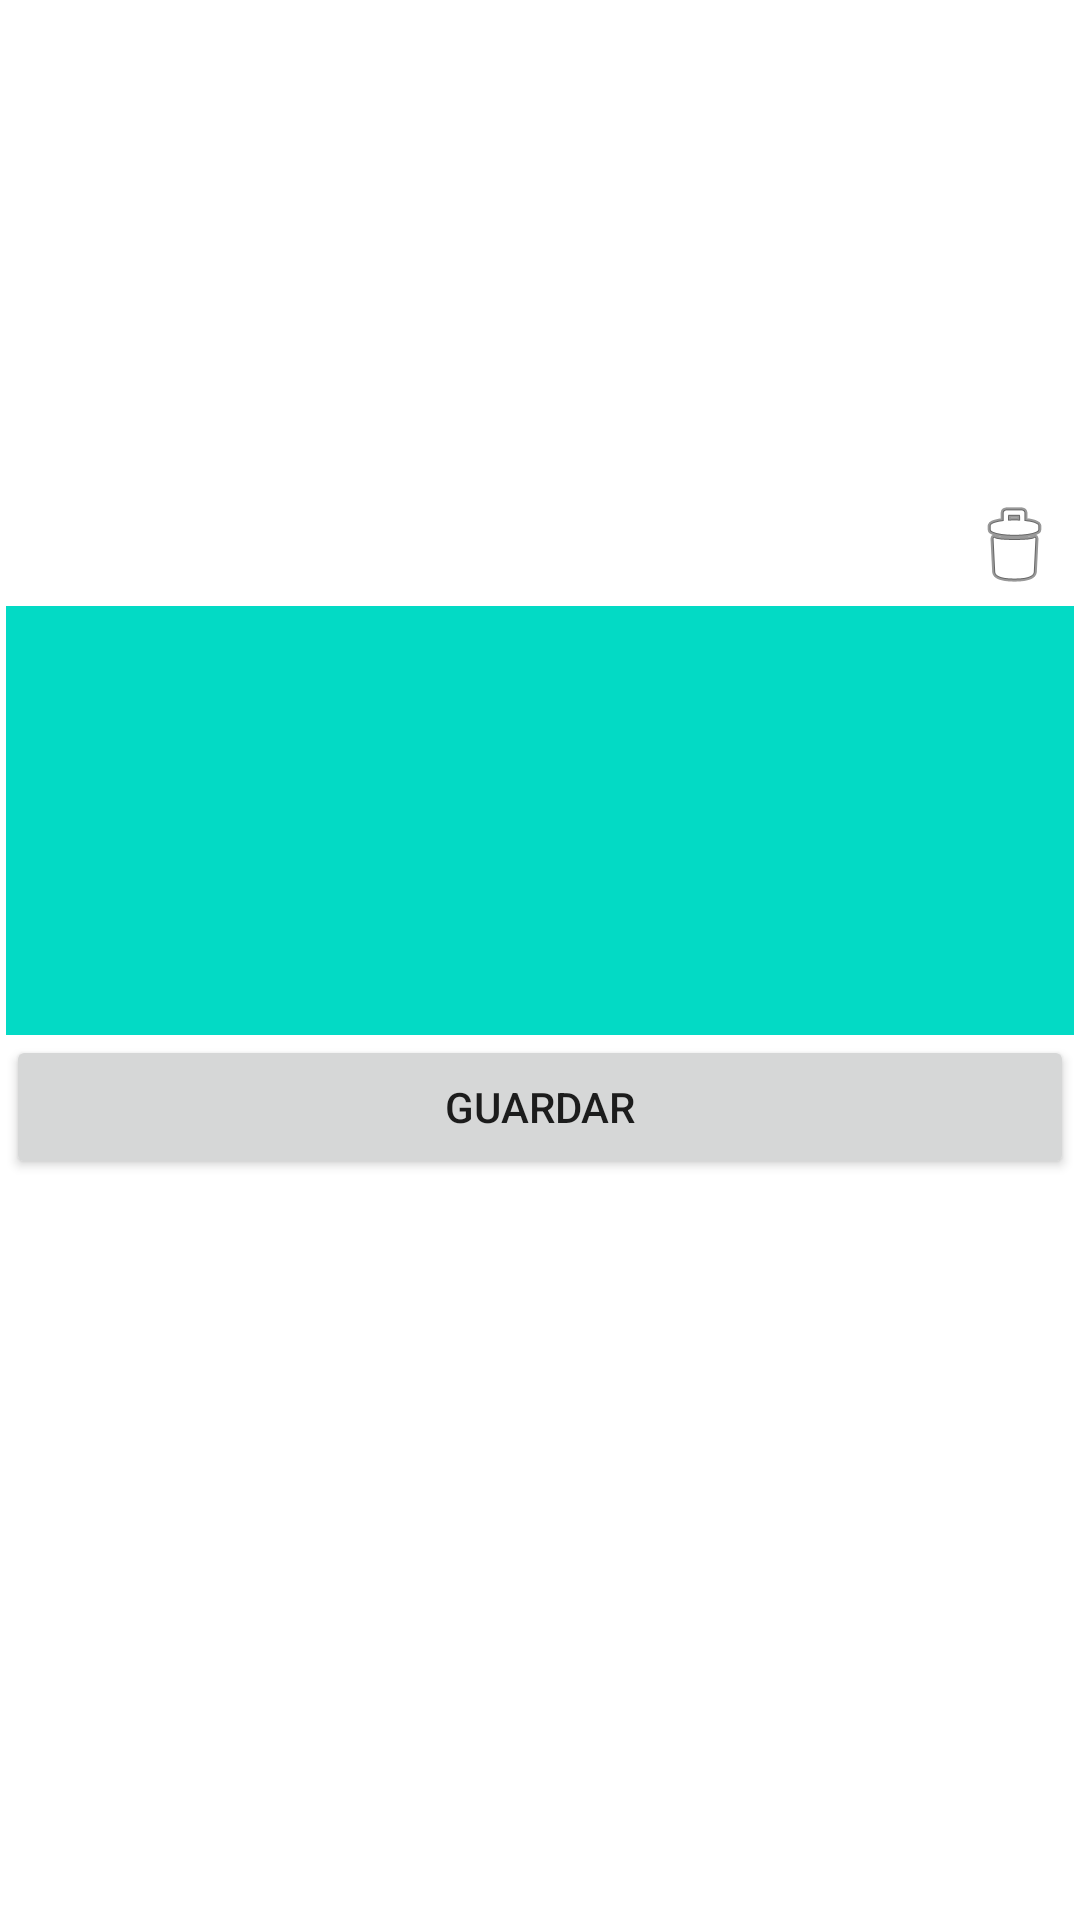

Icon bounding boxes for this 1080 × 1920 phone screenshot, format bbox=(x1, y1, x2, y2):
delete: bbox=(987, 507, 1042, 582)
